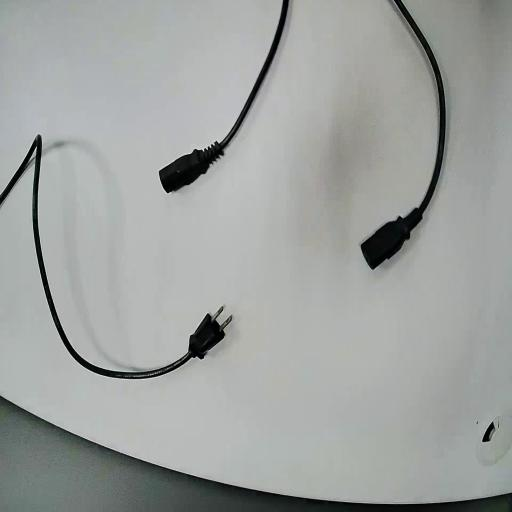wire: (0, 137, 223, 377), (160, 0, 287, 191), (361, 0, 444, 267)
